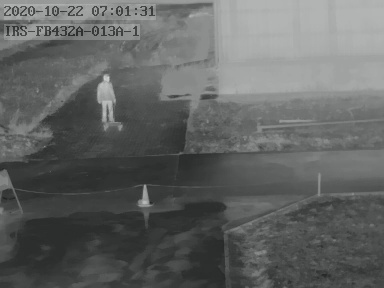person: (96, 73, 118, 128)
